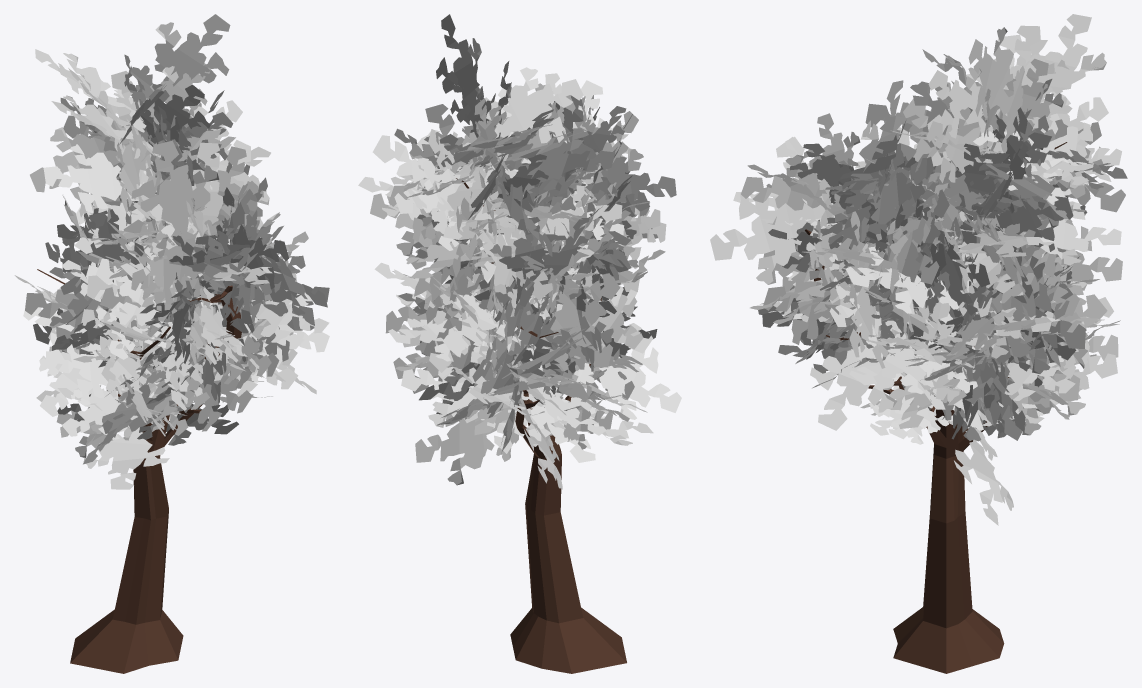
Rendered from Tree 2.fbx.
3 renders of one model, left to right at view 1: azimuth 30°, elevation 25°; view 2: azimuth 150°, elevation 25°; view 3: azimuth 270°, elevation 25°, orthographic. The views are drawn at different scales.
Visible parts, largest first — view 1: Branches, Trunk; view 2: Branches, Trunk; view 3: Branches, Trunk.
Boxes of the visible parts, bbox=[...] form: Branches: bbox=[14, 14, 329, 489]; Trunk: bbox=[37, 269, 241, 673]; Branches: bbox=[358, 14, 681, 489]; Trunk: bbox=[456, 178, 626, 673]; Branches: bbox=[710, 14, 1127, 525]; Trunk: bbox=[805, 142, 1067, 673].
Bounding box in the file's own units: 1072 × 2485 × 1428.
